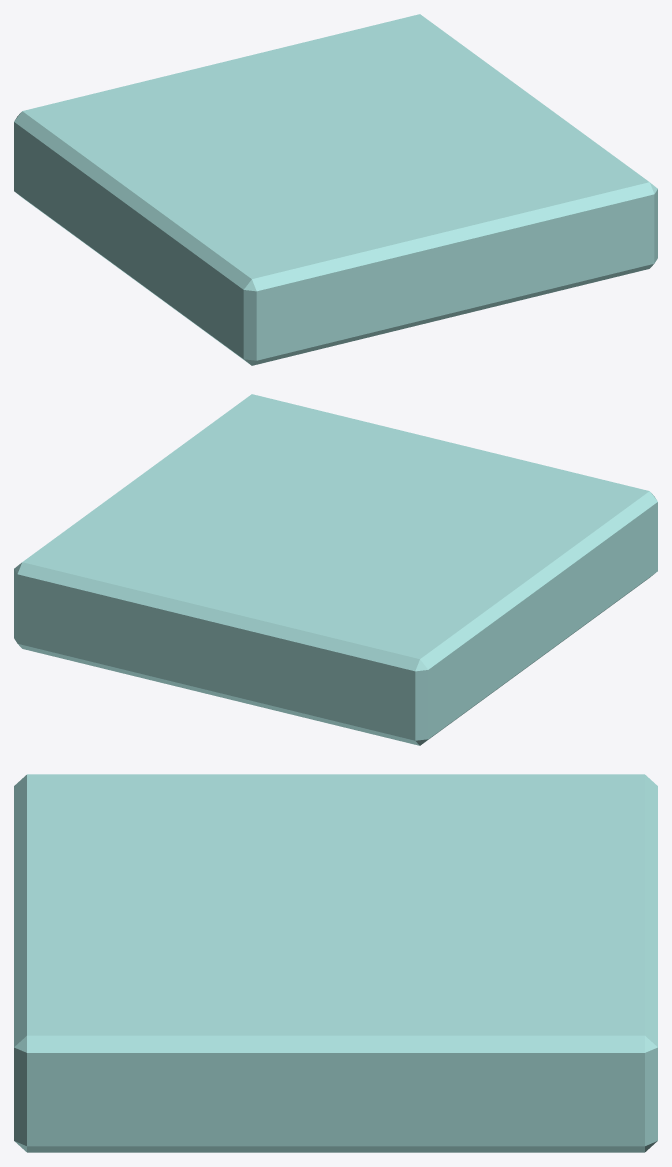
The model's file is Floor.fbx.
3 renders of one model, top to bottom at view 1: azimuth 30°, elevation 25°; view 2: azimuth 150°, elevation 25°; view 3: azimuth 270°, elevation 25°, orthographic. The views are drawn at different scales.
Visible parts, largest first — view 1: pCube1; view 2: pCube1; view 3: pCube1.
Part boxes in pixels (box(x1,y1,x2,y2)): pCube1: box(14, 14, 657, 365); pCube1: box(14, 394, 657, 745); pCube1: box(14, 774, 657, 1152).
Size of the model in its own units: 1 by 0.2 by 1.
